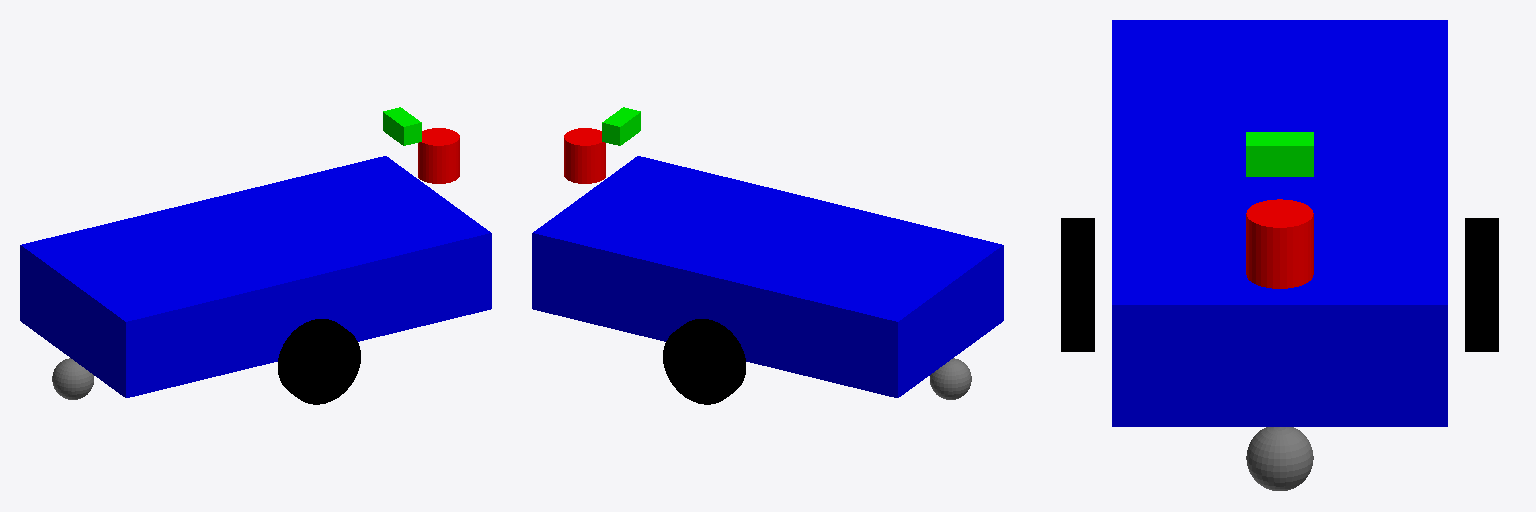
URDF robot description (helios_robot):
<?xml version="1.0"?>
<robot name="helios_robot">
  <!-- Base Link -->
  <link name="base_link">
    <visual>
      <geometry>
        <box size="1.0 0.5 0.2"/>
      </geometry>
      <material name="blue"><color rgba="0 0 1 1"/></material>
    </visual>
    <collision>
      <geometry>
        <box size="1.0 0.5 0.2"/>
      </geometry>
    </collision>
    <inertial>
      <mass value="10.0"/>
      <inertia ixx="1.0" ixy="0.0" ixz="0.0" iyy="1.0" iyz="0.0" izz="1.0"/>
    </inertial>
  </link>

  <!-- Left Wheel -->
  <link name="left_wheel">
    <visual>
      <geometry>
        <cylinder radius="0.1" length="0.05"/>
      </geometry>
      <material name="black"><color rgba="0 0 0 1"/></material>
    </visual>
    <collision>
      <geometry>
        <cylinder radius="0.1" length="0.05"/>
      </geometry>
    </collision>
    <inertial>
      <mass value="1.0"/>
      <inertia ixx="0.1" ixy="0.0" ixz="0.0" iyy="0.1" iyz="0.0" izz="0.1"/>
    </inertial>
  </link>
  <joint name="left_wheel_joint" type="continuous">
    <parent link="base_link"/>
    <child link="left_wheel"/>
    <origin xyz="0 0.3 -0.1" rpy="1.5708 0 0"/>
    <axis xyz="0 1 0"/>
  </joint>

  <!-- Right Wheel -->
  <link name="right_wheel">
    <visual>
      <geometry>
        <cylinder radius="0.1" length="0.05"/>
      </geometry>
      <material name="black"><color rgba="0 0 0 1"/></material>
    </visual>
    <collision>
      <geometry>
        <cylinder radius="0.1" length="0.05"/>
      </geometry>
    </collision>
    <inertial>
      <mass value="1.0"/>
      <inertia ixx="0.1" ixy="0.0" ixz="0.0" iyy="0.1" iyz="0.0" izz="0.1"/>
    </inertial>
  </link>
  <joint name="right_wheel_joint" type="continuous">
    <parent link="base_link"/>
    <child link="right_wheel"/>
    <origin xyz="0 -0.3 -0.1" rpy="1.5708 0 0"/>
    <axis xyz="0 1 0"/>
  </joint>

  <!-- Front Caster -->
  <link name="front_caster">
    <visual>
      <geometry>
        <sphere radius="0.05"/>
      </geometry>
      <material name="gray"><color rgba="0.5 0.5 0.5 1"/></material>
    </visual>
    <collision>
      <geometry>
        <sphere radius="0.05"/>
      </geometry>
    </collision>
    <inertial>
      <mass value="0.5"/>
      <inertia ixx="0.01" ixy="0.0" ixz="0.0" iyy="0.01" iyz="0.0" izz="0.01"/>
    </inertial>
  </link>
  <joint name="front_caster_joint" type="fixed">
    <parent link="base_link"/>
    <child link="front_caster"/>
    <origin xyz="0.5 0 -0.15" rpy="0 0 0"/>
  </joint>

  <!-- Rear Caster -->
  <link name="rear_caster">
    <visual>
      <geometry>
        <sphere radius="0.05"/>
      </geometry>
      <material name="gray"><color rgba="0.5 0.5 0.5 1"/></material>
    </visual>
    <collision>
      <geometry>
        <sphere radius="0.05"/>
      </geometry>
    </collision>
    <inertial>
      <mass value="0.5"/>
      <inertia ixx="0.01" ixy="0.0" ixz="0.0" iyy="0.01" iyz="0.0" izz="0.01"/>
    </inertial>
  </link>
  <joint name="rear_caster_joint" type="fixed">
    <parent link="base_link"/>
    <child link="rear_caster"/>
    <origin xyz="-0.5 0 -0.15" rpy="0 0 0"/>
  </joint>

  <!-- Lidar -->
  <link name="lidar_link">
    <visual>
      <geometry>
        <cylinder radius="0.05" length="0.1"/>
      </geometry>
      <material name="red"><color rgba="1 0 0 1"/></material>
    </visual>
  </link>
  <joint name="lidar_joint" type="fixed">
    <parent link="base_link"/>
    <child link="lidar_link"/>
    <origin xyz="0.5 0 0.2" rpy="0 0 0"/>
  </joint>

  <!-- Depth Camera -->
  <link name="depth_camera_link">
    <visual>
      <geometry>
        <box size="0.05 0.1 0.05"/>
      </geometry>
      <material name="green"><color rgba="0 1 0 1"/></material>
    </visual>
  </link>
  <joint name="depth_camera_joint" type="fixed">
    <parent link="base_link"/>
    <child link="depth_camera_link"/>
    <origin xyz="0.4 0 0.3" rpy="0 0 0"/>
  </joint>
</robot>

--- What the picture shows (computed from the rendered views, not written in the file) ---
3 views of the same robot in one strip: view 1: azimuth 30°, elevation 25°; view 2: azimuth 150°, elevation 25°; view 3: azimuth 270°, elevation 25° (orthographic).
Model helios_robot with 7 links and 6 joints (2 continuous, 4 fixed), rooted at base_link, posed every joint at zero.
Links seen in each view (by area): view 1: base_link, right_wheel, lidar_link, rear_caster, depth_camera_link; view 2: base_link, left_wheel, lidar_link, rear_caster, depth_camera_link; view 3: base_link, lidar_link, left_wheel, right_wheel, front_caster, depth_camera_link.
Link boxes in pixels (x1,y1,x2,y2): base_link: (20, 156, 491, 397); right_wheel: (278, 319, 360, 404); lidar_link: (418, 128, 459, 183); rear_caster: (52, 358, 93, 399); depth_camera_link: (383, 107, 421, 145); base_link: (532, 156, 1003, 397); left_wheel: (663, 319, 745, 404); lidar_link: (564, 128, 605, 183); rear_caster: (930, 358, 971, 399); depth_camera_link: (602, 107, 640, 145); base_link: (1112, 20, 1447, 426); lidar_link: (1246, 199, 1313, 288); left_wheel: (1465, 218, 1498, 351); right_wheel: (1061, 218, 1094, 351); front_caster: (1246, 427, 1313, 490); depth_camera_link: (1246, 132, 1313, 176).
Bounding box of the posed robot: 1.1 × 0.65 × 0.525 m (x, y, z).
Geometry: primitives only (box / cylinder / sphere), no mesh files.